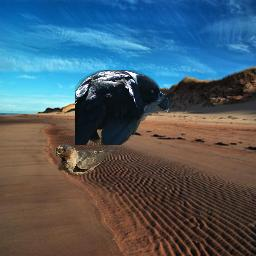Crow: (75, 70, 171, 145)
Swallow: (53, 144, 114, 177)
